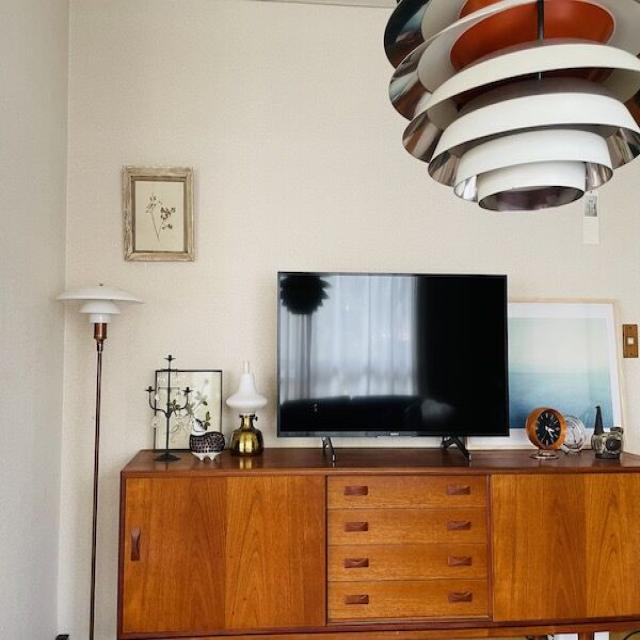vintage shelf: (126, 442, 640, 640)
